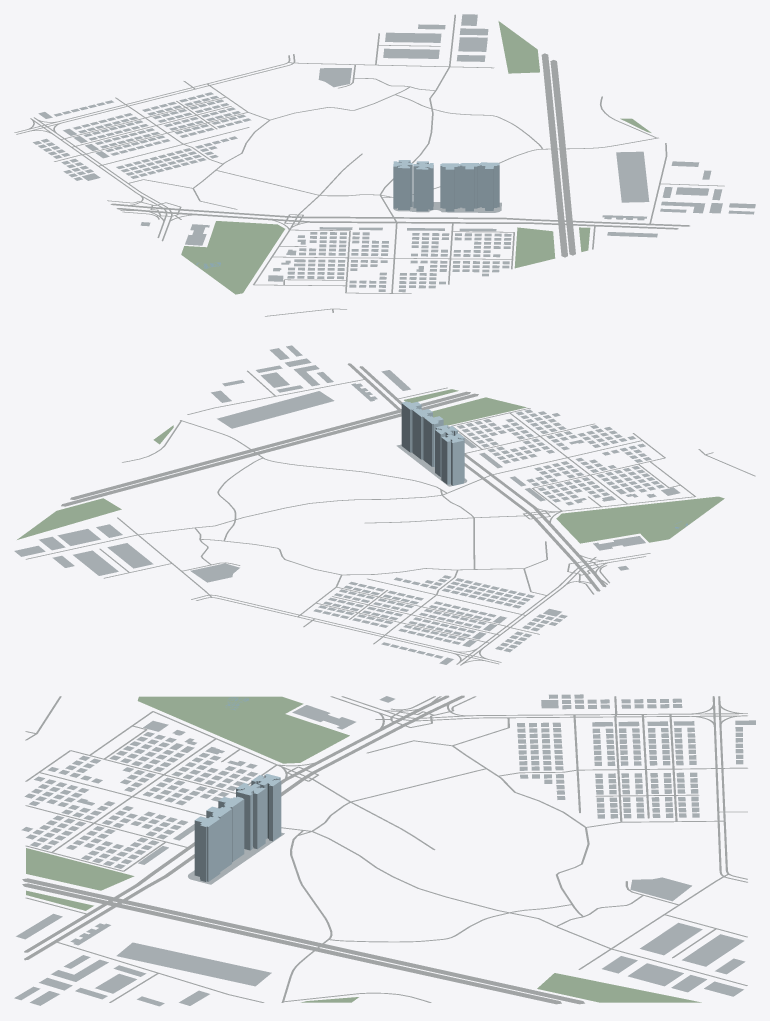
The model's file is -20_17-known-coarse.glb.
The picture shows the model from 3 angles, top to bottom: view 1: azimuth 30°, elevation 25°; view 2: azimuth 150°, elevation 25°; view 3: azimuth 270°, elevation 25°; orthographic projection. The views are drawn at different scales.
Size of the model in its own units: 1018 by 84 by 1023.
